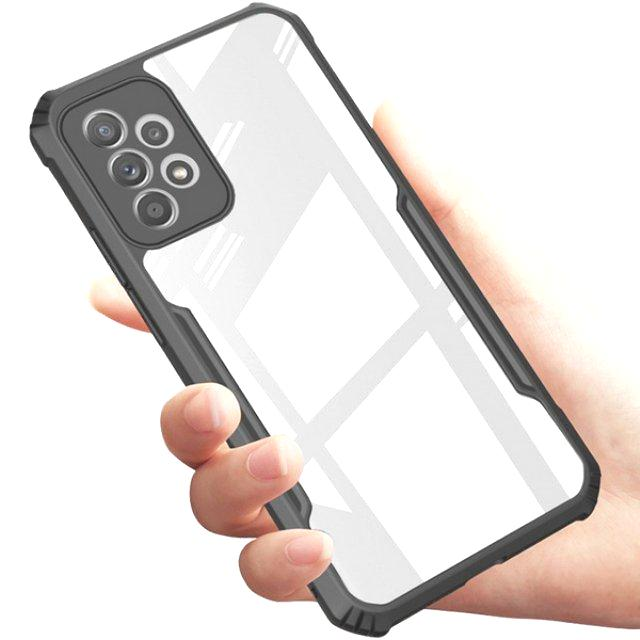lens: (77, 105, 219, 229)
phone: (27, 5, 602, 640)
